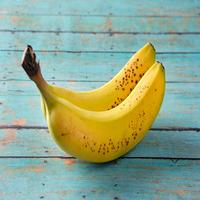banane: (17, 36, 181, 164)
